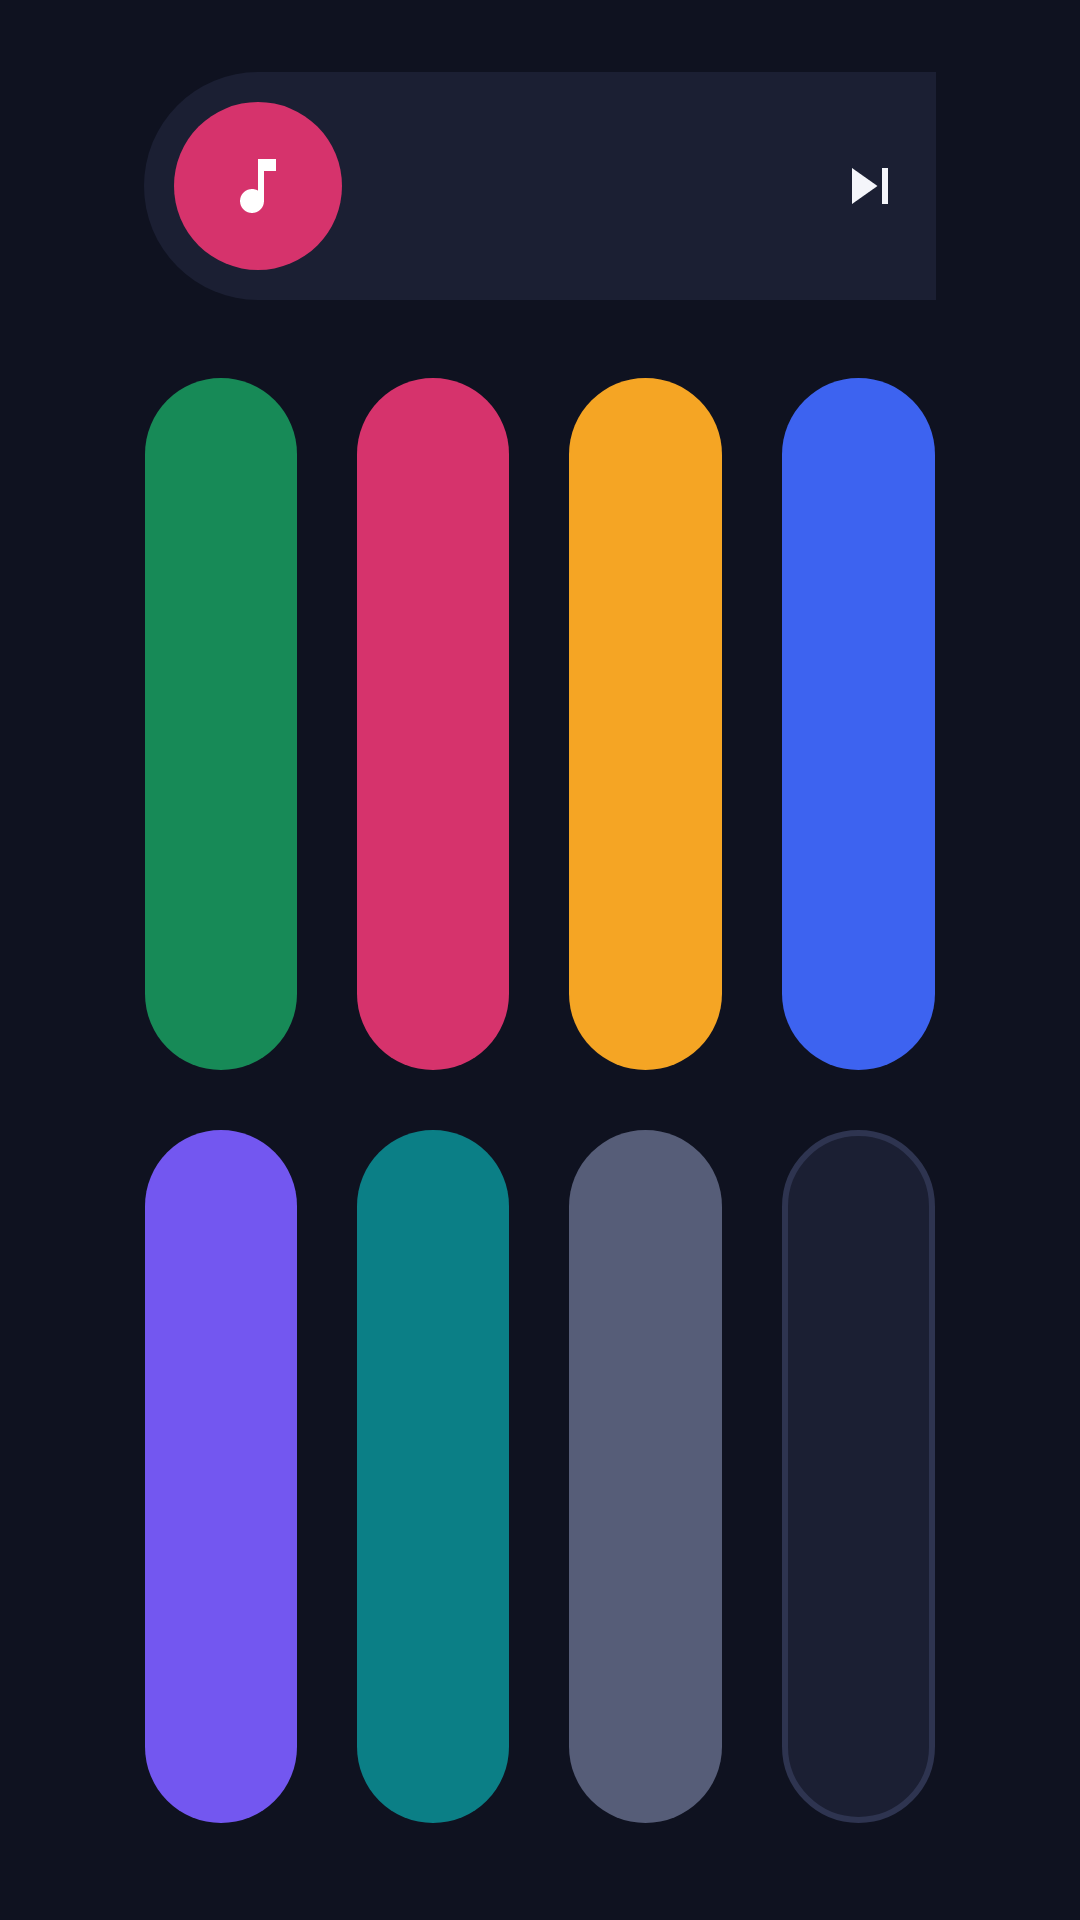

Icon bounding boxes for this 1080×1920 phone screenshot, format (x1, y1, x2, y2):
music: (174, 102, 342, 270)
